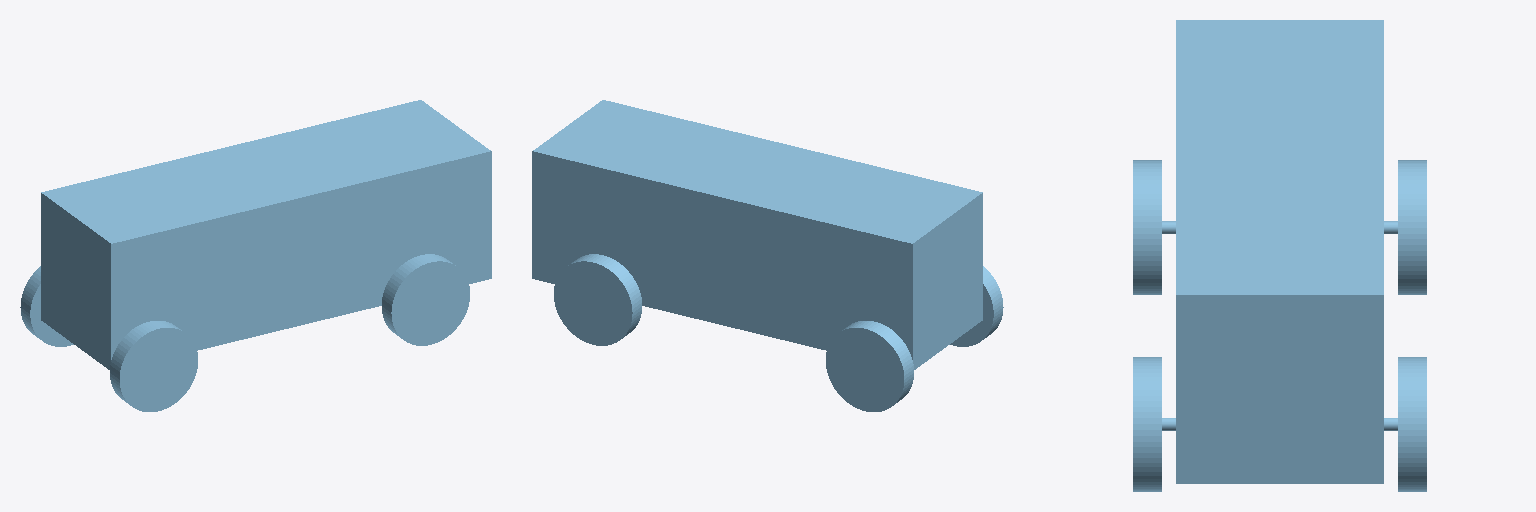
The robot description file, URDF, robot "onshape":
<?xml version="1.0"?>
<robot name="onshape">
  <link name="base_link">
    <inertial>
      <origin xyz="0 0 0" rpy="0 0 0" />
      <mass value="1.0" />
      <inertia ixx="0.1" ixy="0.0" ixz="0.0" iyy="0.1" iyz="0.0" izz="0.1" />
    </inertial>
  </link>

  <link name="part_1">
    <visual>
      <origin xyz="-0.32336086541414255091 -0.28952645510435115472 -0.27072597742080689587" rpy="0 0 0" />
      <geometry>
        <mesh filename="package://your_package_name/meshes/part_1.stl" />
      </geometry>
      <material name="part_1_material">
        <color rgba="0.61568627450980395466 0.81176470588235294379 0.92941176470588238168 1.0" />
      </material>
    </visual>
    <collision>
      <origin xyz="-0.32336086541414255091 -0.28952645510435115472 -0.27072597742080689587" rpy="0 0 0" />
      <geometry>
        <mesh filename="package://your_package_name/meshes/part_1.stl" />
      </geometry>
    </collision>
    <visual>
      <origin xyz="-0.83086086541414272411 -0.51202645510435129683 -0.25822597742080688477" rpy="0 0 0" />
      <geometry>
        <mesh filename="package://your_package_name/meshes/rehv1.stl" />
      </geometry>
      <material name="rehv1_material">
        <color rgba="0.61568627450980395466 0.81176470588235294379 0.92941176470588238168 1.0" />
      </material>
    </visual>
    <collision>
      <origin xyz="-0.83086086541414272411 -0.51202645510435129683 -0.25822597742080688477" rpy="0 0 0" />
      <geometry>
        <mesh filename="package://your_package_name/meshes/rehv1.stl" />
      </geometry>
    </collision>
    <visual>
      <origin xyz="0.049139134585857391357 -0.012026455104351043562 -0.25822597742080688477" rpy="0 0 0" />
      <geometry>
        <mesh filename="package://your_package_name/meshes/rehv1.stl" />
      </geometry>
      <material name="rehv1_material">
        <color rgba="0.61568627450980395466 0.81176470588235294379 0.92941176470588238168 1.0" />
      </material>
    </visual>
    <collision>
      <origin xyz="0.049139134585857391357 -0.012026455104351043562 -0.25822597742080688477" rpy="0 0 0" />
      <geometry>
        <mesh filename="package://your_package_name/meshes/rehv1.stl" />
      </geometry>
    </collision>
    <visual>
      <origin xyz="-0.83086086541414261308 -0.012026455104351019276 -0.25822597742080688477" rpy="0 0 0" />
      <geometry>
        <mesh filename="package://your_package_name/meshes/rehv1.stl" />
      </geometry>
      <material name="rehv1_material">
        <color rgba="0.61568627450980395466 0.81176470588235294379 0.92941176470588238168 1.0" />
      </material>
    </visual>
    <collision>
      <origin xyz="-0.83086086541414261308 -0.012026455104351019276 -0.25822597742080688477" rpy="0 0 0" />
      <geometry>
        <mesh filename="package://your_package_name/meshes/rehv1.stl" />
      </geometry>
    </collision>
    <visual>
      <origin xyz="0.049139134585857280335 -0.51202645510435129683 -0.25822597742080688477" rpy="0 0 0" />
      <geometry>
        <mesh filename="package://your_package_name/meshes/rehv1.stl" />
      </geometry>
      <material name="rehv1_material">
        <color rgba="0.61568627450980395466 0.81176470588235294379 0.92941176470588238168 1.0" />
      </material>
    </visual>
    <collision>
      <origin xyz="0.049139134585857280335 -0.51202645510435129683 -0.25822597742080688477" rpy="0 0 0" />
      <geometry>
        <mesh filename="package://your_package_name/meshes/rehv1.stl" />
      </geometry>
    </collision>
    <material name="part_1_material">
      <color rgba="0.61568627450980395466 0.81176470588235294379 0.92941176470588238168 1.0" />
    </material>
    <material name="rehv1_material">
      <color rgba="0.61568627450980395466 0.81176470588235294379 0.92941176470588238168 1.0" />
    </material>
  </link>

  <joint name="base_to_part_1" type="fixed">
    <parent link="base_link" />
    <child link="part_1" />
  </joint>
</robot>

--- Facts derived from the render (not from the file) ---
The picture shows the robot from 3 angles, left to right: view 1: azimuth 30°, elevation 25°; view 2: azimuth 150°, elevation 25°; view 3: azimuth 270°, elevation 25°; orthographic projection.
Robot: onshape — 2 links, 1 joints (1 fixed); root link base_link; default pose: all joints at 0.
Links seen in each view (by area): view 1: part_1; view 2: part_1; view 3: part_1.
Boxes of the visible links, x1=… form: part_1: x1=20, y1=100, x2=491, y2=411; part_1: x1=532, y1=100, x2=1003, y2=411; part_1: x1=1133, y1=20, x2=1426, y2=491.
Bounding box of the posed robot: 1.25 × 0.555 × 0.51 m (x, y, z).
Meshes: 2 distinct files referenced, 5 mesh visuals loaded (2 binary STL).
